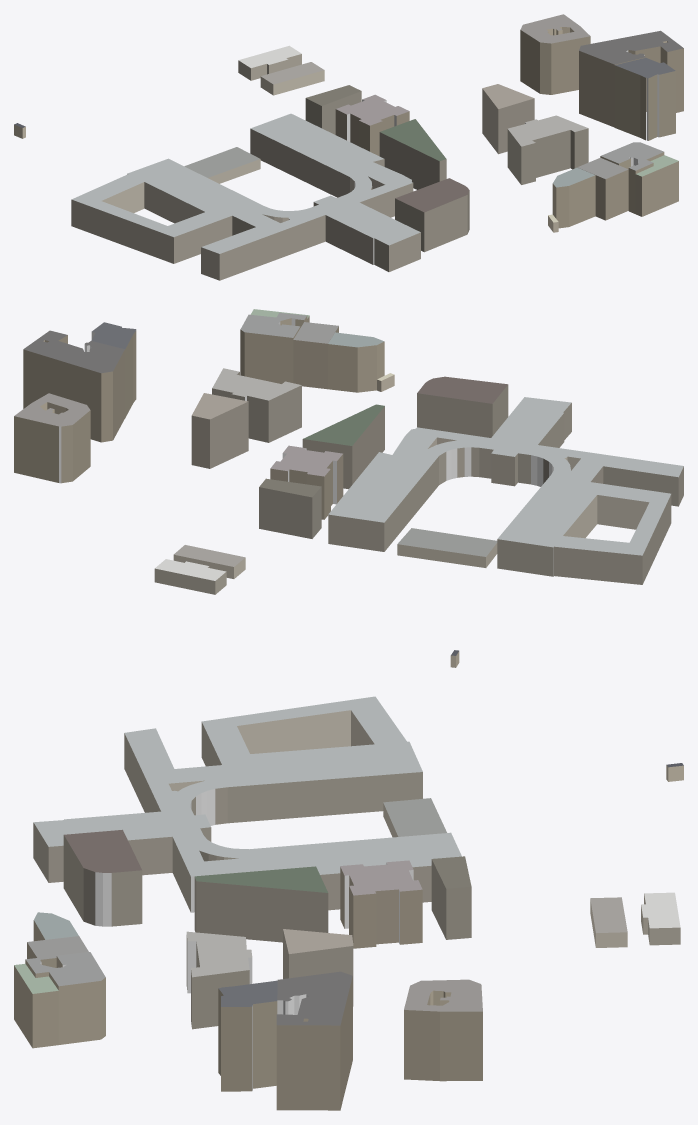
3 views of the same model, one above another, from view 1: azimuth 30°, elevation 25°; view 2: azimuth 150°, elevation 25°; view 3: azimuth 270°, elevation 25° (orthographic). The views are drawn at different scales.
Visible parts, largest first — view 1: tuile; view 2: tuile; view 3: tuile.
Boxes of the visible parts, x1,y1,x2,y2 form: tuile: [14, 14, 683, 280]; tuile: [14, 309, 683, 667]; tuile: [14, 696, 683, 1110].
Bounding box in the file's own units: 291 × 33.85 × 217.
